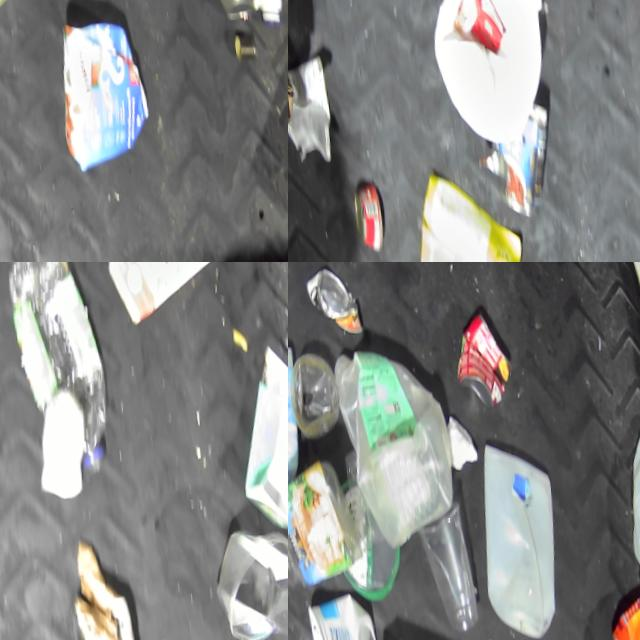can: (489, 93, 557, 214), (446, 305, 512, 409), (307, 262, 365, 330), (345, 168, 386, 254)
milk_jug: (330, 322, 460, 546), (415, 0, 570, 152), (468, 429, 570, 635), (613, 412, 640, 612)
plastic_bottle: (4, 262, 115, 469), (288, 458, 350, 597)
